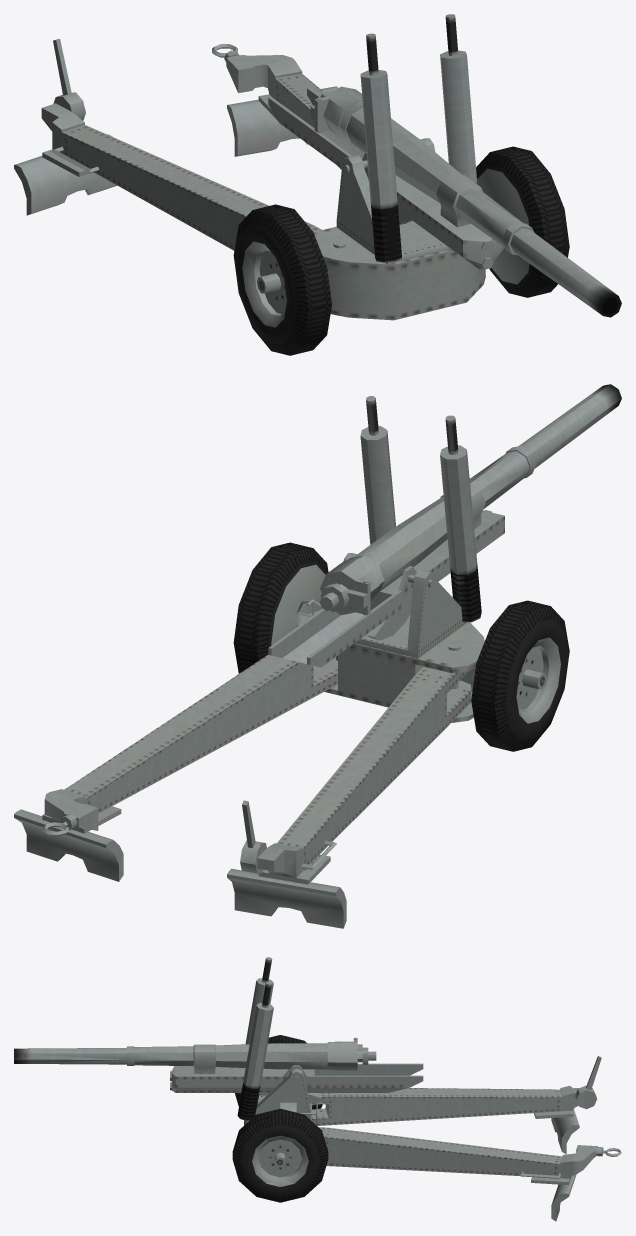
Rendered from GBR45inGun.dae.
3 views of the same model, one above another, from view 1: azimuth 30°, elevation 25°; view 2: azimuth 150°, elevation 25°; view 3: azimuth 270°, elevation 25° (orthographic). The views are drawn at different scales.
Visible parts, largest first — view 1: wheels, trail1, turret, barrel, carriage, sleeve, trail2; view 2: trail1, trail2, wheels, turret, barrel, sleeve, carriage; view 3: trail2, trail1, wheels, barrel, sleeve, turret.
Part boxes in pixels (x1,y1,x2,y2): wheels: (233,146,569,355); trail1: (14,39,345,250); turret: (336,14,477,264); barrel: (310,86,621,317); carriage: (313,226,485,320); sleeve: (268,87,504,269); trail2: (212,44,341,169); trail1: (227,643,471,928); trail2: (14,655,337,881); wheels: (233,542,569,751); turret: (296,396,481,658); barrel: (320,384,621,615); sleeve: (268,483,504,667); carriage: (296,611,484,722); trail2: (318,1127,621,1221); trail1: (312,1056,601,1154); wheels: (232,1035,328,1202); barrel: (14,1037,376,1070); sleeve: (170,1044,423,1103); turret: (237,957,324,1124).
Size of the model in its own units: 24.61 by 63.21 by 23.18.
